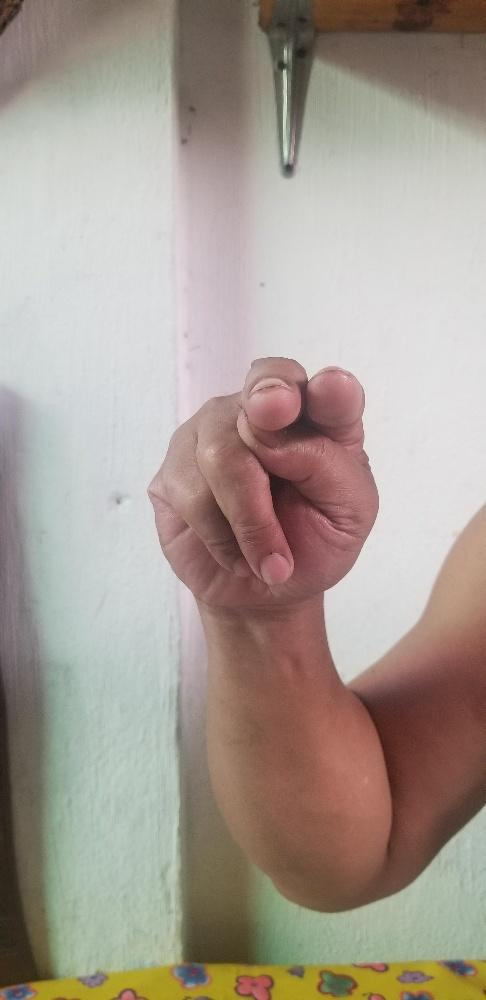n: (146, 355, 380, 601)
